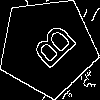B: (23, 22, 79, 77)
